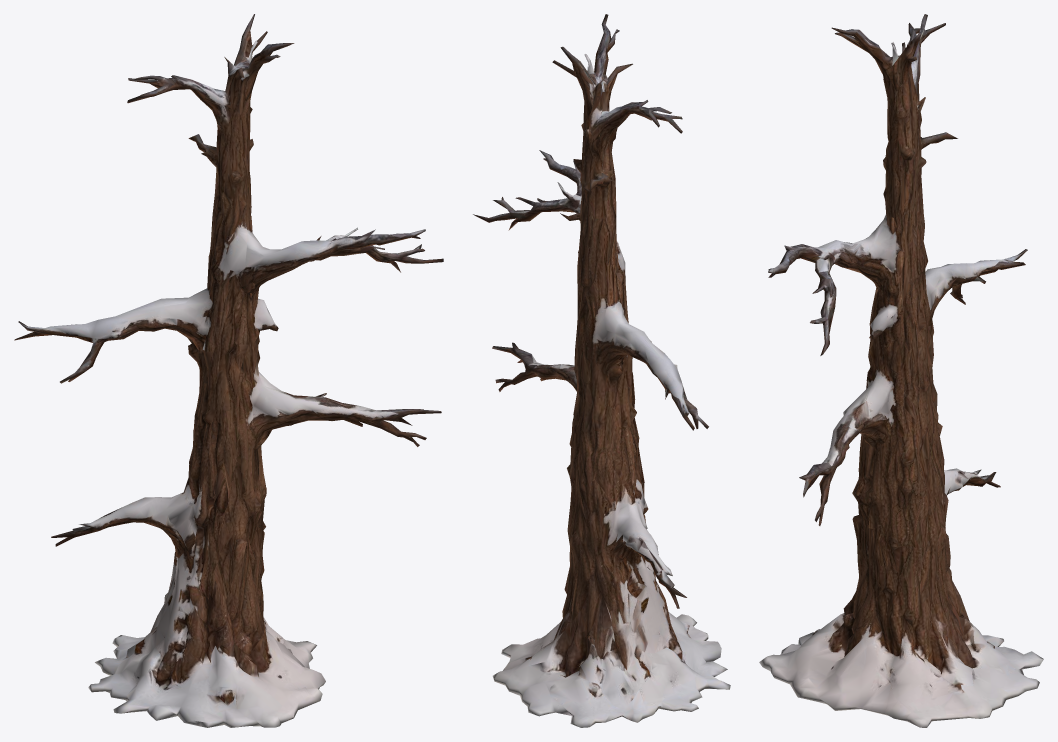
Rendered from dead_tree.glb.
The picture shows the model from 3 angles, left to right: view 1: azimuth 30°, elevation 25°; view 2: azimuth 150°, elevation 25°; view 3: azimuth 270°, elevation 25°; orthographic projection. The views are drawn at different scales.
Visible parts, largest first — view 1: Nyx; view 2: Nyx; view 3: Nyx.
Part boxes in pixels (x1,y1,x2,y2): Nyx: (14, 14, 443, 727); Nyx: (473, 14, 730, 727); Nyx: (759, 14, 1043, 727).
Size of the model in its own units: 4.24 by 8 by 3.08.
Materials: 1 (1 with a texture image).
